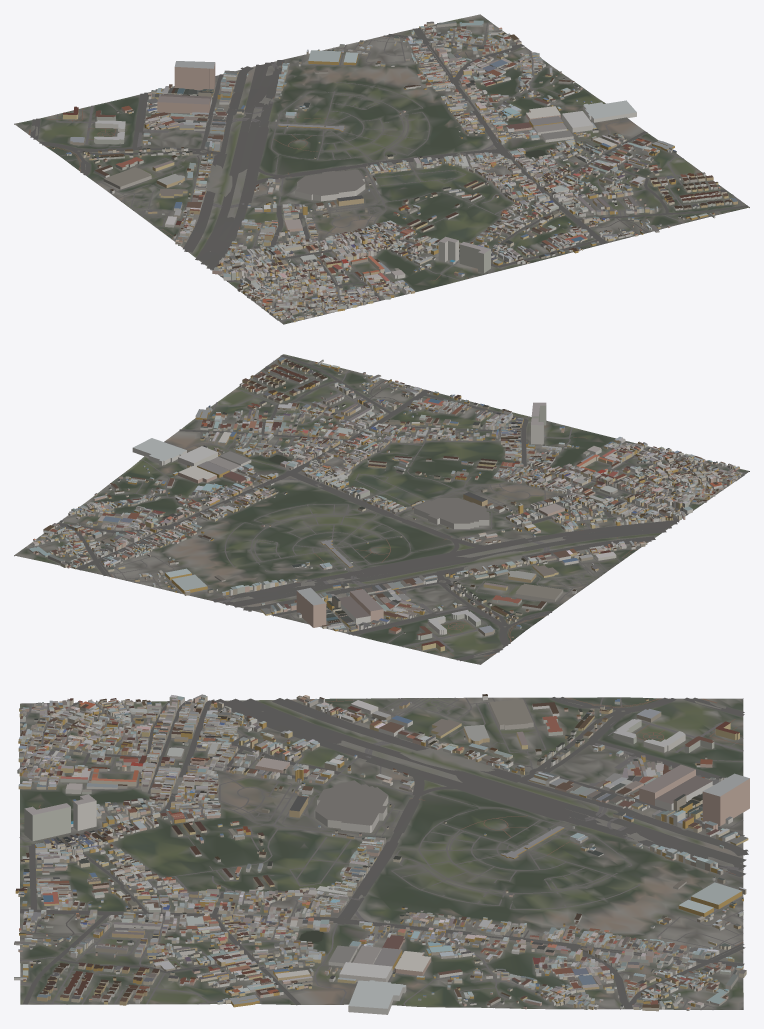
The picture shows the model from 3 angles, top to bottom: view 1: azimuth 30°, elevation 25°; view 2: azimuth 150°, elevation 25°; view 3: azimuth 270°, elevation 25°; orthographic projection. The views are drawn at different scales.
Visible parts, largest first — view 1: ground, buildings, roads; view 2: ground, buildings, roads; view 3: ground, buildings, roads.
Part boxes in pixels (x1,y1,x2,y2): ground: (14,14,749,324); buildings: (52,20,737,322); roads: (14,22,748,321); ground: (14,354,749,664); buildings: (28,357,742,651); roads: (25,355,745,664); ground: (20,697,743,1009); buildings: (14,694,749,1014); roads: (19,697,748,1009).
Size of the model in its own units: 1450 by 76.02 by 1425.
